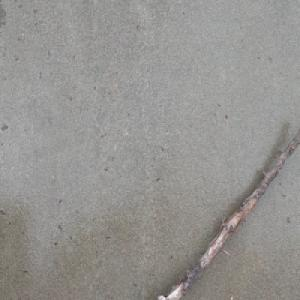Wood: (155, 123, 300, 300)
